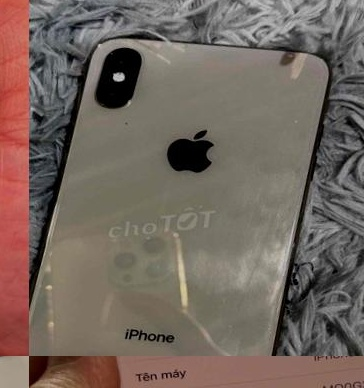scratch: (115, 117, 136, 129), (287, 115, 302, 128), (105, 48, 117, 58)
